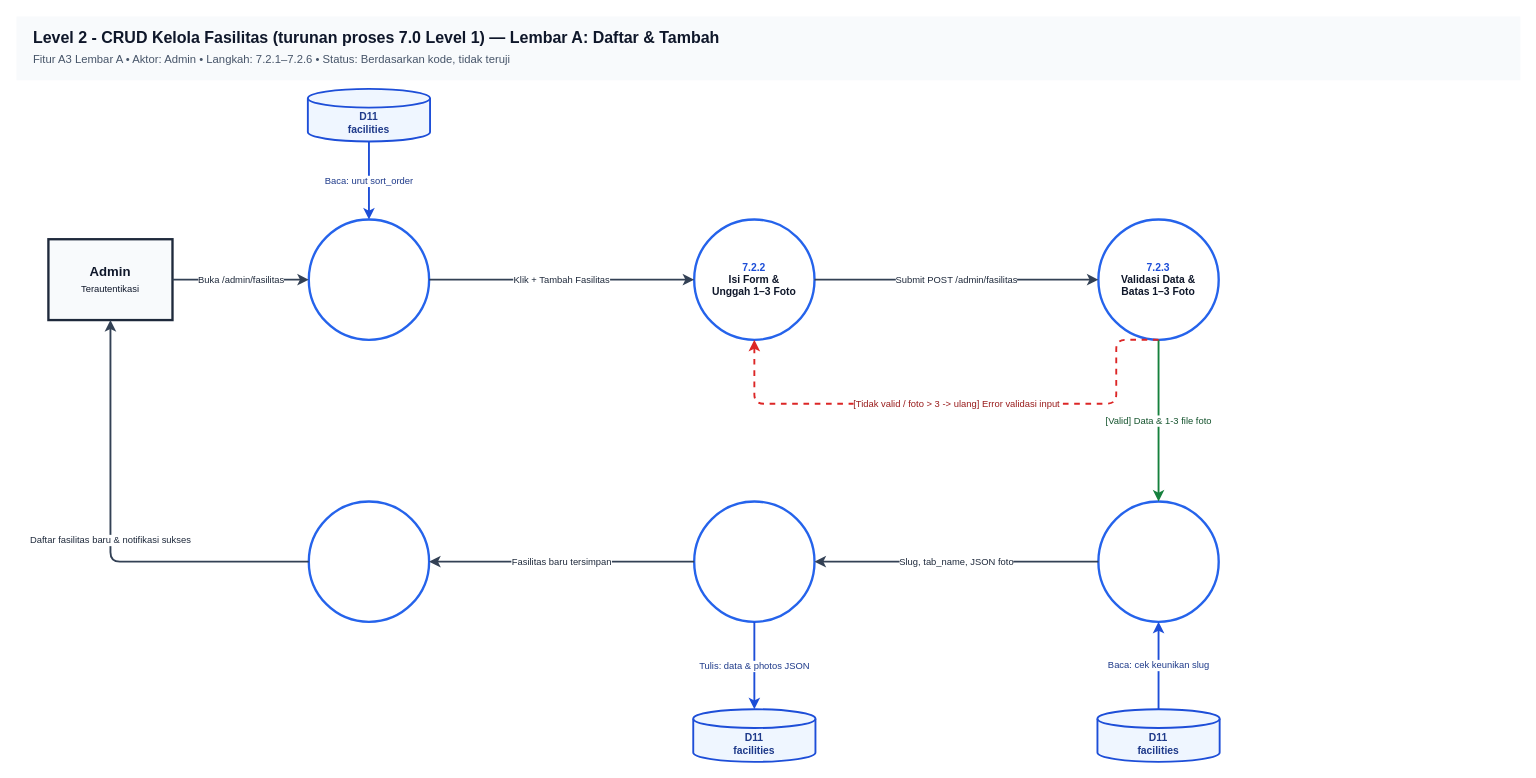
This 1536x778 diagram has some shape labels left out. Each missing label, with the centre of its shape:
7.2.1 Muat Daftar Fasilitas Terurut: point (368, 279)
7.2.4 Simpan Foto, Slug & Tab Kapit.: point (1158, 561)
7.2.5 Simpan Fasilitas ke Basis Data: point (754, 561)
7.2.6 Tampilkan Daftar & Alert Sukses: point (368, 561)
